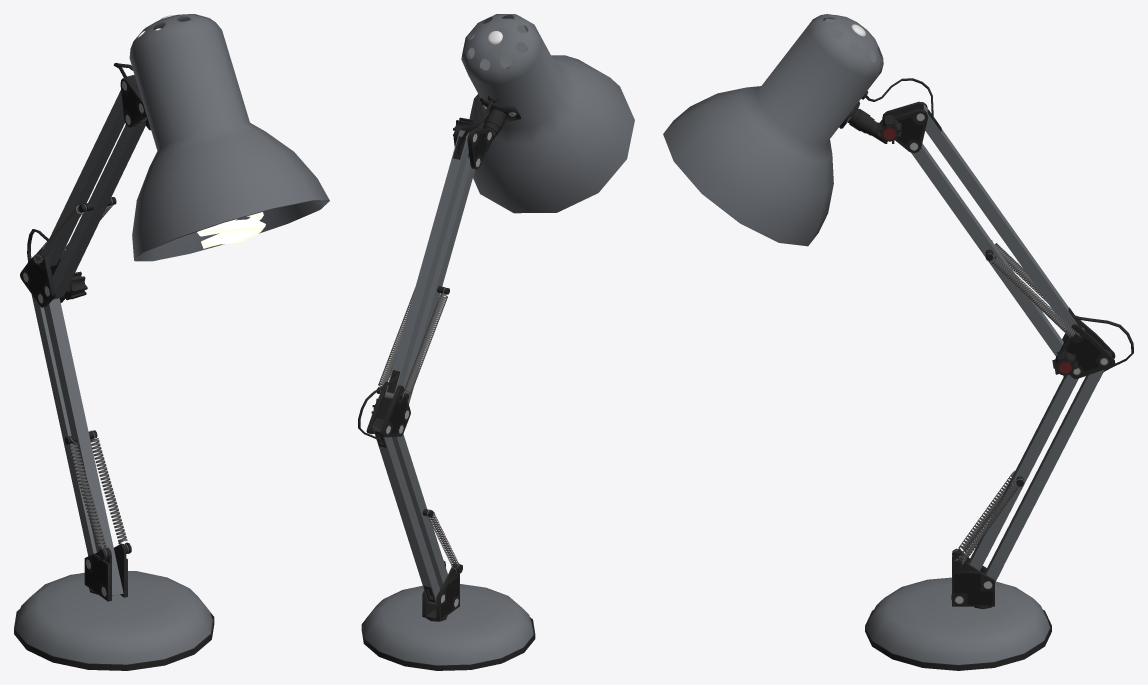
The model's file is lamba-1.glb.
The picture shows the model from 3 angles, left to right: view 1: azimuth 30°, elevation 25°; view 2: azimuth 150°, elevation 25°; view 3: azimuth 270°, elevation 25°; orthographic projection. The views are drawn at different scales.
Visible parts, largest first — view 1: LP_01, Cylinder001, Box060, Box009, LP01, Box055, LP01_lowpart, Cylinder002, Helix007, Plane009, Cylinder079, Cylinder070 (+2 smaller); view 2: LP_01, Cylinder001, LP01, Box055, Box009, Box060, LP01_lowpart, Cylinder002, Plane009, Cylinder069, Cylinder018, Cylinder060 (+4 smaller); view 3: LP_01, Cylinder001, LP01, Box009, Box055, Box060, LP01_lowpart, Plane013, Cylinder002, Cylinder071, Cylinder077, Cylinder079.
Part boxes in pixels (bbox=[...]): LP_01: bbox=[129, 14, 329, 261]; Cylinder001: bbox=[15, 571, 212, 664]; Box060: bbox=[44, 298, 123, 596]; Box009: bbox=[52, 117, 146, 299]; LP01: bbox=[45, 74, 138, 266]; Box055: bbox=[31, 294, 96, 555]; LP01_lowpart: bbox=[84, 542, 131, 601]; Cylinder002: bbox=[14, 609, 214, 670]; Helix007: bbox=[197, 212, 265, 248]; Plane009: bbox=[20, 249, 55, 307]; Cylinder079: bbox=[90, 438, 127, 541]; Cylinder070: bbox=[68, 443, 105, 547]; LP_01: bbox=[461, 14, 634, 213]; Cylinder001: bbox=[363, 584, 533, 665]; LP01: bbox=[384, 130, 469, 399]; Box055: bbox=[372, 418, 439, 604]; Box009: bbox=[403, 156, 475, 404]; Box060: bbox=[392, 434, 447, 589]; LP01_lowpart: bbox=[422, 561, 462, 621]; Cylinder002: bbox=[361, 617, 535, 670]; Plane009: bbox=[380, 385, 410, 437]; Cylinder069: bbox=[404, 293, 447, 393]; Cylinder018: bbox=[467, 128, 492, 169]; Cylinder060: bbox=[468, 18, 527, 71]; LP_01: bbox=[663, 14, 883, 246]; Cylinder001: bbox=[867, 577, 1050, 664]; LP01: bbox=[913, 104, 1085, 330]; Box009: bbox=[911, 143, 1063, 356]; Box055: bbox=[984, 349, 1111, 582]; Box060: bbox=[951, 375, 1078, 600]; LP01_lowpart: bbox=[952, 548, 994, 606]; Plane013: bbox=[1059, 324, 1115, 378]; Cylinder002: bbox=[865, 610, 1051, 670]; Cylinder071: bbox=[890, 109, 927, 153]; Cylinder077: bbox=[992, 256, 1075, 337]; Cylinder079: bbox=[958, 482, 1018, 561].
Size of the model in its own units: 0.049 by 0.1744 by 0.1216.
Materials: 4 (4 with a texture image).
